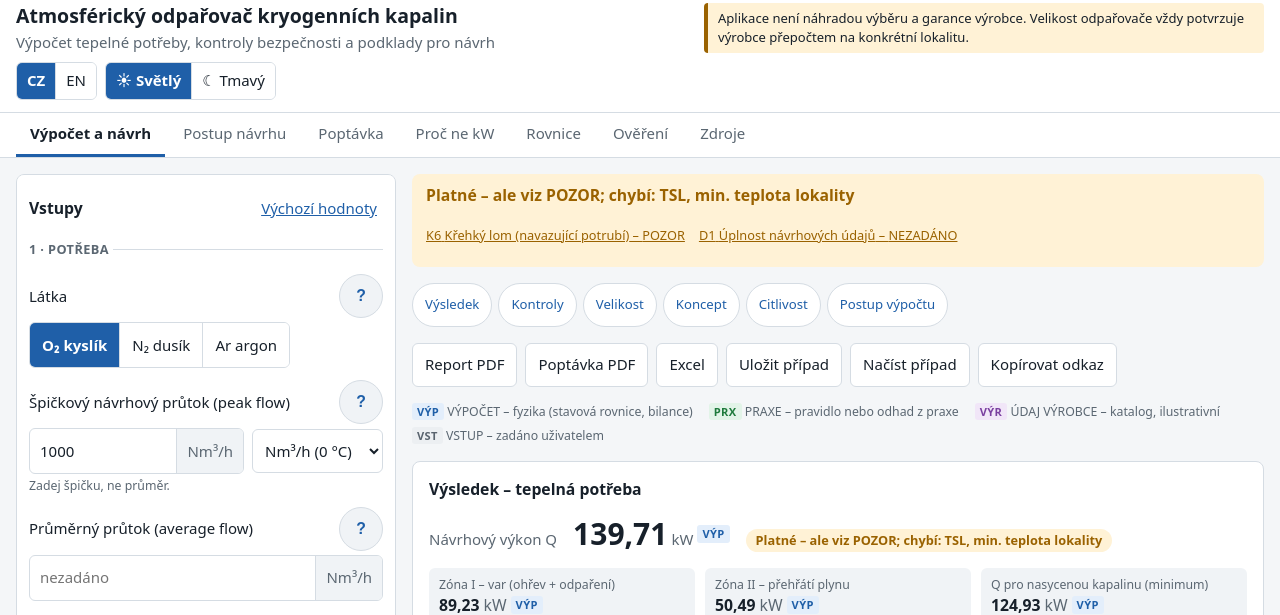
Test case: interakce › změna látky přenastaví teplotu kapaliny, rozsah tlaku a sloupec katalogu; Q = 129,34 kW
This screenshot has width=1280, height=615.
Click the radio button labelled "N₂ dusík". click: (162, 346)
box: [120,324,203,368]
(page scrolled)
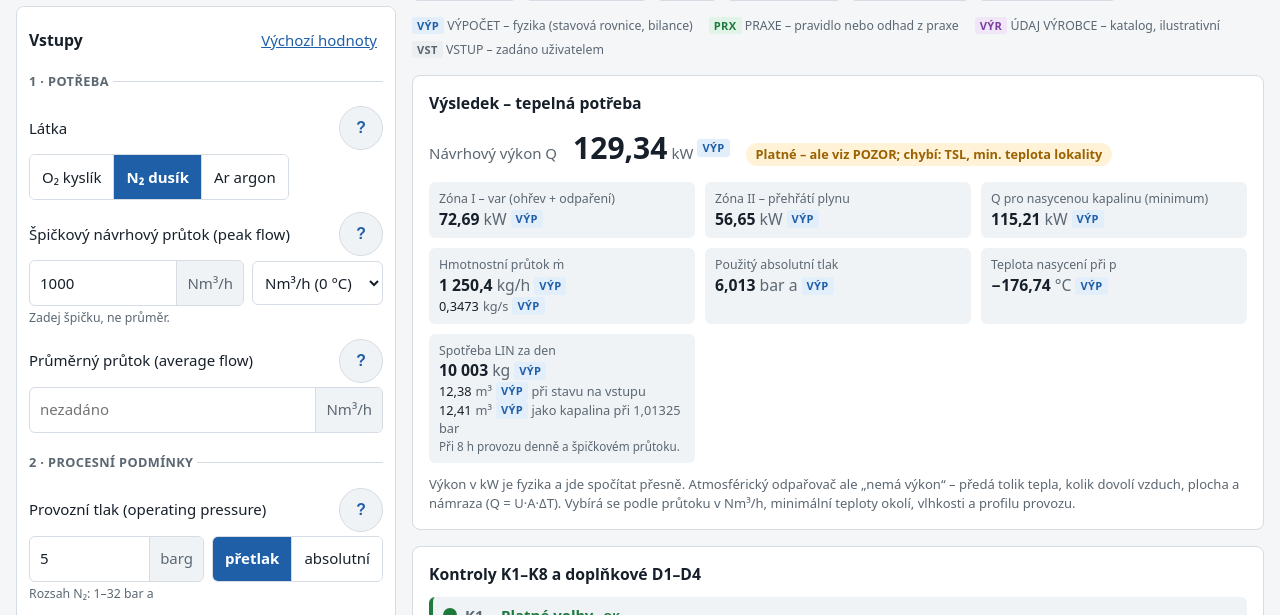
expect the text "Rozsah N₂: 1–32 bar a" is shown: met, box [29,585,154,602]
expect the text "Spotřeba LIN za den" is shown: met, box [439,342,556,359]
